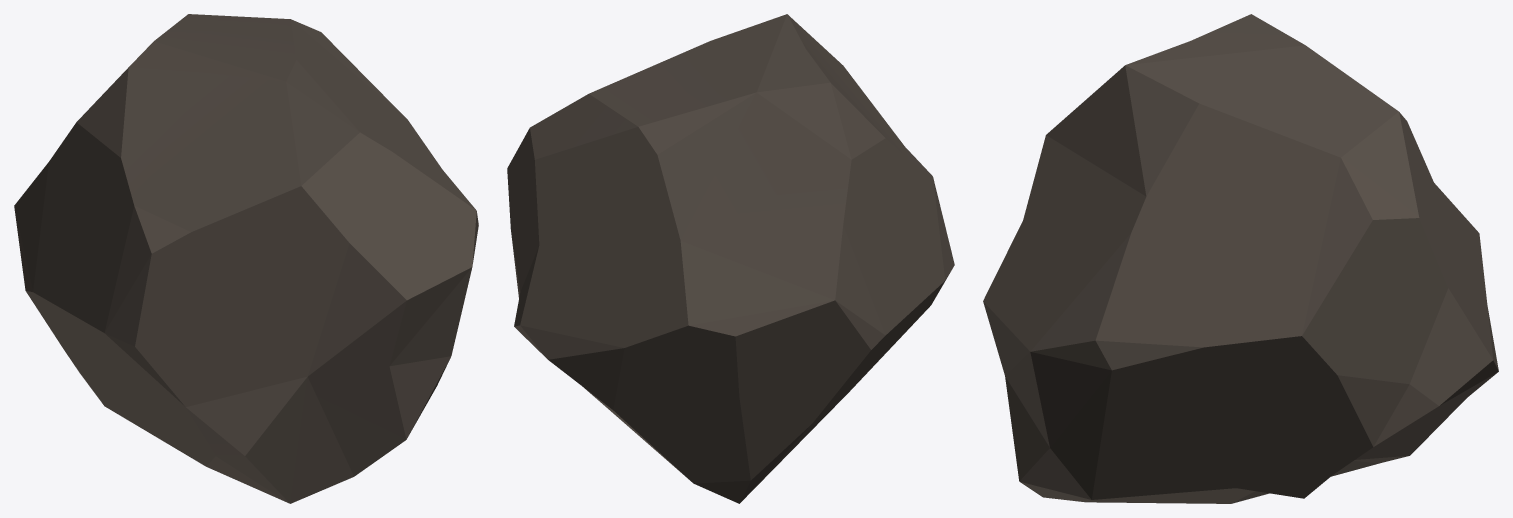
The model's file is RockBeach1.glb.
3 renders of one model, left to right at view 1: azimuth 30°, elevation 25°; view 2: azimuth 150°, elevation 25°; view 3: azimuth 270°, elevation 25°, orthographic. The views are drawn at different scales.
Parts seen in each view (by area): view 1: RockBeach1; view 2: RockBeach1; view 3: RockBeach1.
Part boxes in pixels (left/top/right/bottom): RockBeach1: left=14, top=14, right=478, bottom=503; RockBeach1: left=507, top=14, right=954, bottom=503; RockBeach1: left=983, top=14, right=1498, bottom=503.
Bounding box in the file's own units: 0.7176 × 0.748 × 0.7666.
Materials: 1 (1 with a texture image).
